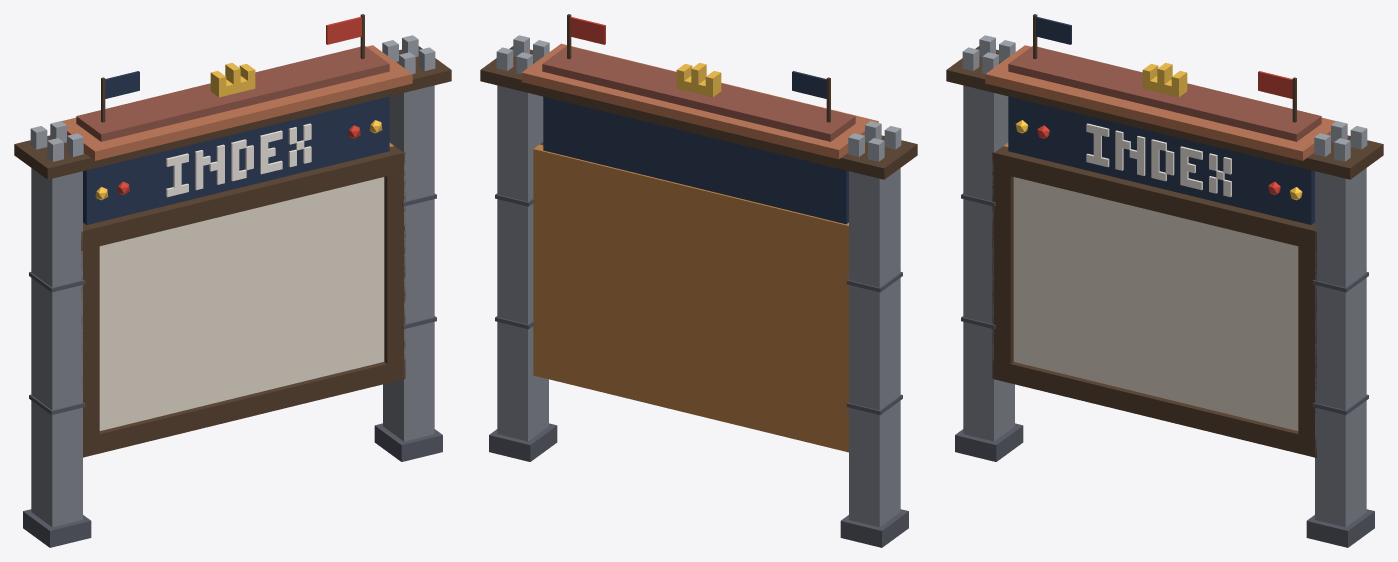
The model's file is CatCafe_Castle_IndexBoard.glb.
3 renders of one model, left to right at view 1: azimuth 30°, elevation 25°; view 2: azimuth 150°, elevation 25°; view 3: azimuth 330°, elevation 25°, orthographic.
Parts seen in each view (by area): view 1: CatCafe_Castle_IndexBoard, CatCafe_Castle_IndexBoard_Screen; view 2: CatCafe_Castle_IndexBoard; view 3: CatCafe_Castle_IndexBoard, CatCafe_Castle_IndexBoard_Screen.
Boxes of the visible parts, x1=… form: CatCafe_Castle_IndexBoard: x1=14, y1=14, x2=451, y2=547; CatCafe_Castle_IndexBoard_Screen: x1=99, y1=177, x2=384, y2=430; CatCafe_Castle_IndexBoard: x1=480, y1=14, x2=917, y2=547; CatCafe_Castle_IndexBoard: x1=946, y1=14, x2=1383, y2=547; CatCafe_Castle_IndexBoard_Screen: x1=1013, y1=177, x2=1298, y2=430.
Size of the model in its own units: 11.2 by 11.75 by 1.9.
1 material, 1 textured.
